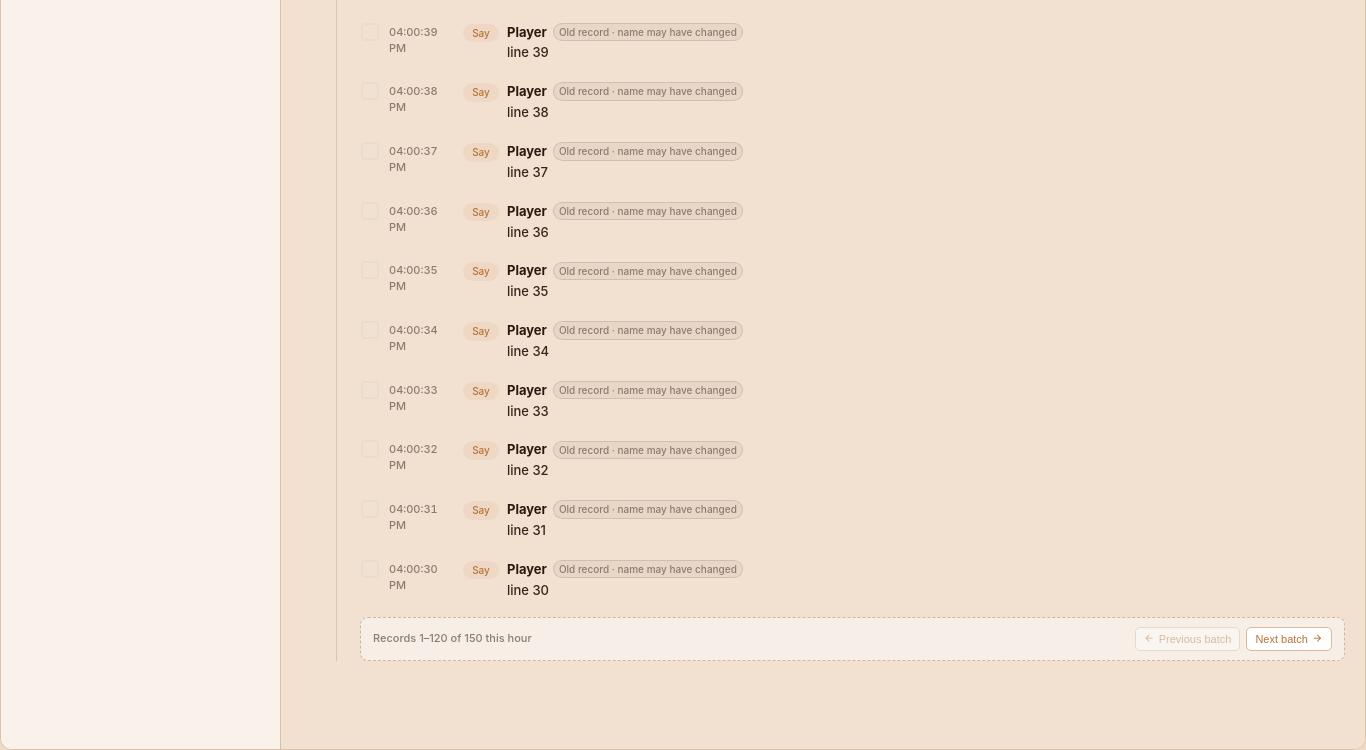
Scenario: StagingPool › pages long hours without growing the rendered record budget
(page scrolled)
expect the navigation bar with class "hour-pagination" shows "120": met, box [373, 631, 532, 645]
expect the navigation bar with class "hour-pagination" shows "150": met, box [373, 631, 532, 645]
Click the button with class "next-hour-page" at (1289, 638), box [1246, 626, 1332, 650]
(page scrolled)
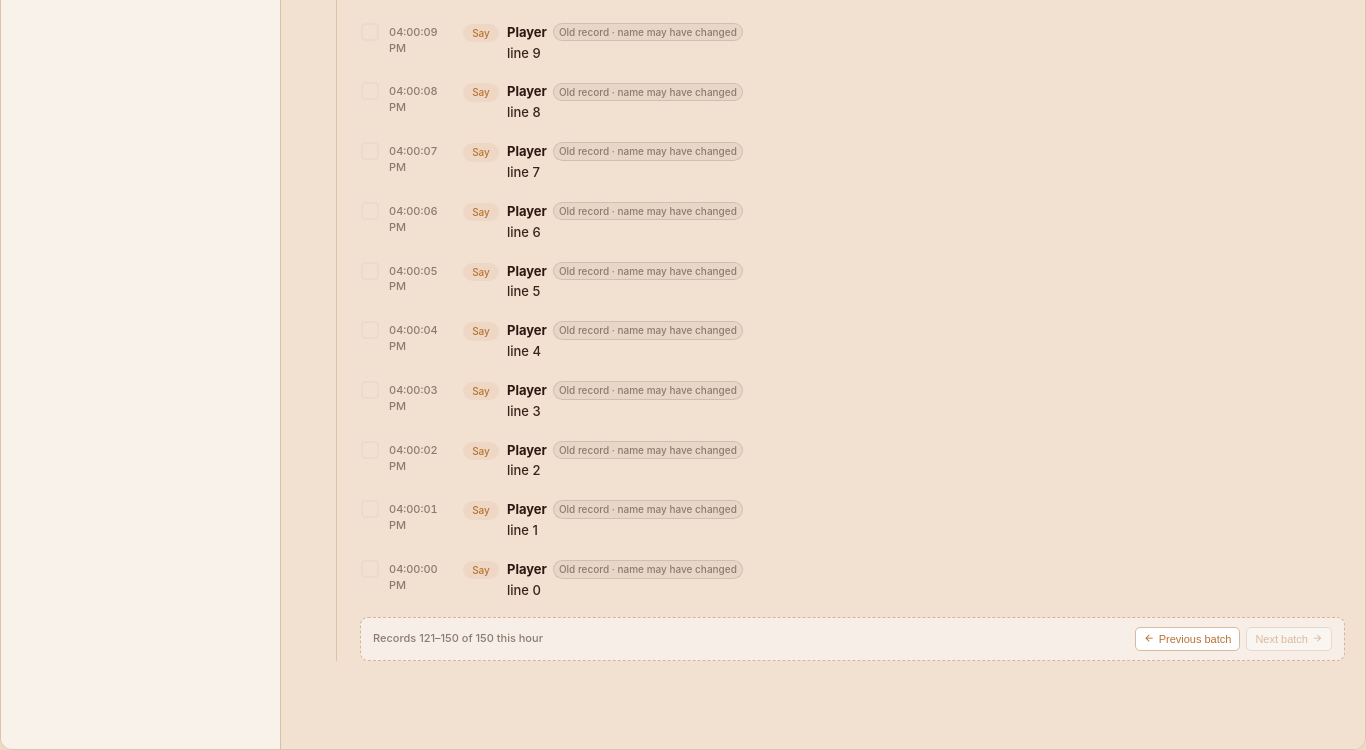
expect the navigation bar with class "hour-pagination" shows "121": met, box [373, 631, 543, 645]
expect the button "Previous batch" is enabled: met, box [1135, 627, 1240, 651]
expect the button with class "next-hour-page" is disabled: met, box [1246, 627, 1332, 651]
